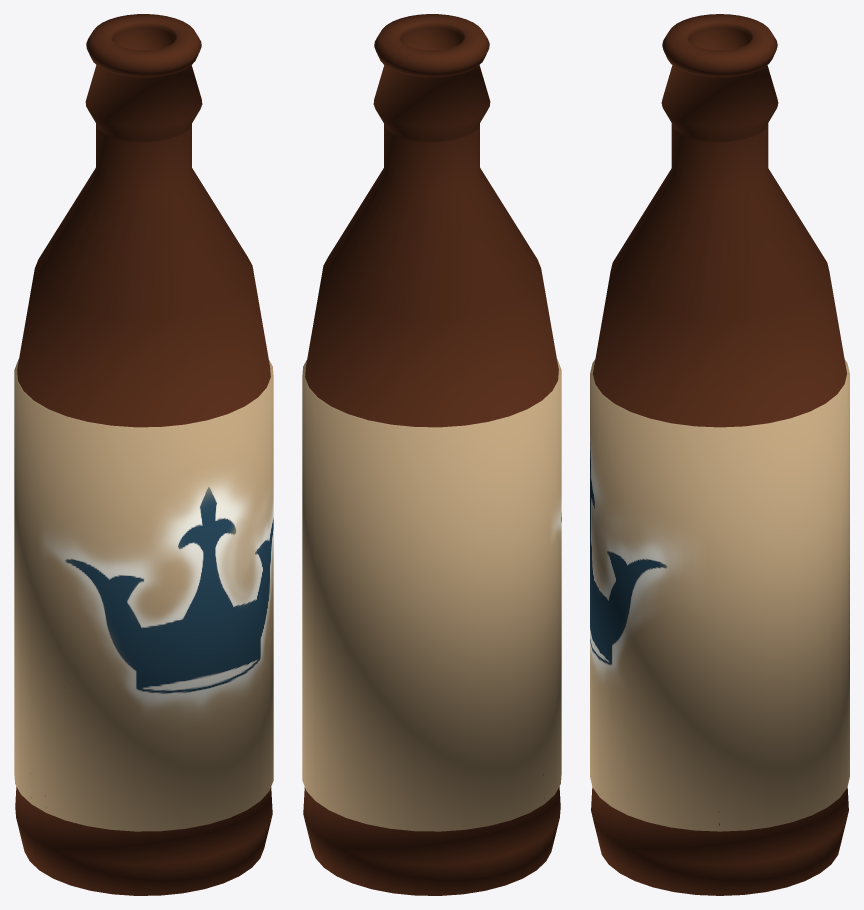
File: Beer.fbx
The picture shows the model from 3 angles, left to right: view 1: azimuth 30°, elevation 25°; view 2: azimuth 150°, elevation 25°; view 3: azimuth 270°, elevation 25°; orthographic projection.
Visible parts, largest first — view 1: Beer; view 2: Beer; view 3: Beer.
Part boxes in pixels (x1,y1,x2,y2): Beer: [14, 14, 273, 895]; Beer: [302, 14, 561, 895]; Beer: [590, 14, 849, 895].
Bounding box in the file's own units: 8.55 × 29.38 × 8.55.
